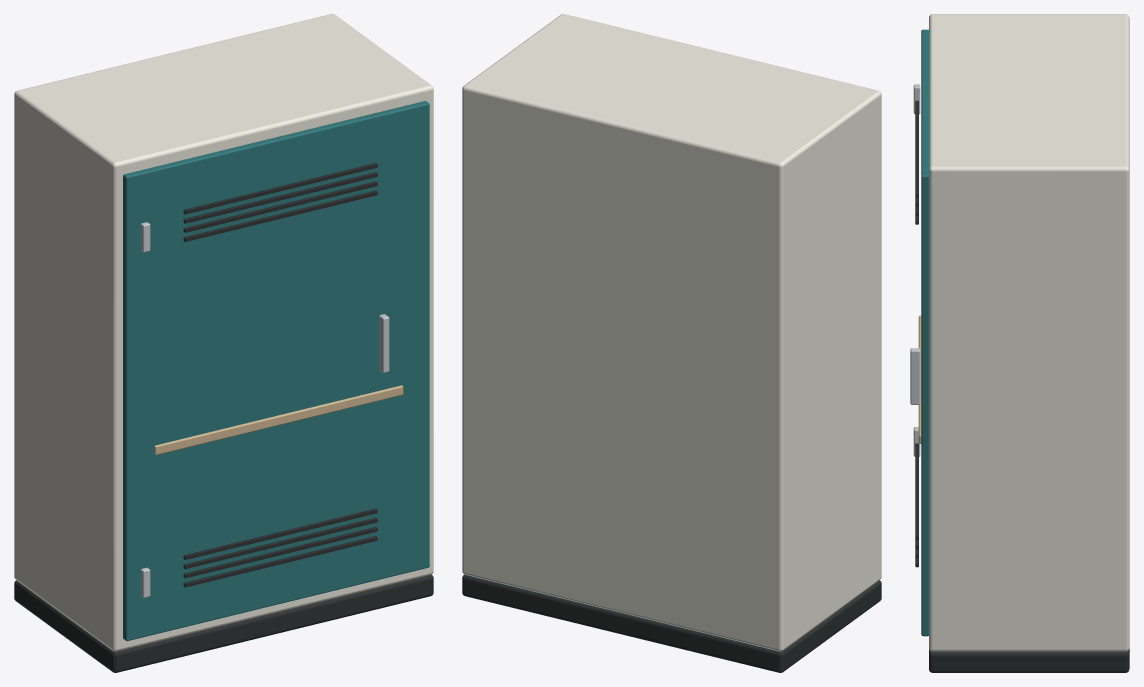
The model's file is tabletop-hobby-store-and-club-terrain-storage-cabinet-93d6d837__31610.glb.
The picture shows the model from 3 angles, left to right: view 1: azimuth 30°, elevation 25°; view 2: azimuth 150°, elevation 25°; view 3: azimuth 270°, elevation 25°; orthographic projection.
Parts seen in each view (by area): view 1: terrain-storage-cabinet; view 2: terrain-storage-cabinet; view 3: terrain-storage-cabinet.
Part boxes in pixels (x1,y1,x2,y2): terrain-storage-cabinet: (14, 14, 433, 672); terrain-storage-cabinet: (462, 14, 881, 672); terrain-storage-cabinet: (910, 14, 1129, 672).
Bounding box in the file's own units: 1.1 × 1.67 × 0.655.
